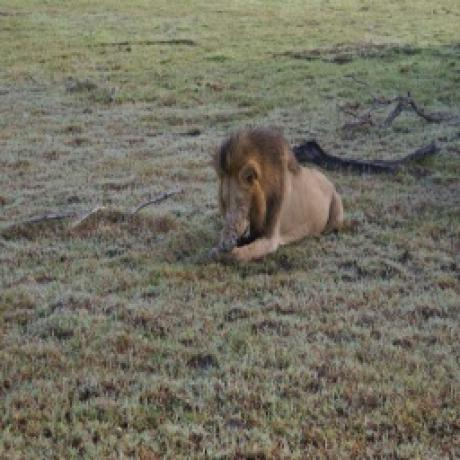Lion: (213, 124, 349, 257)
